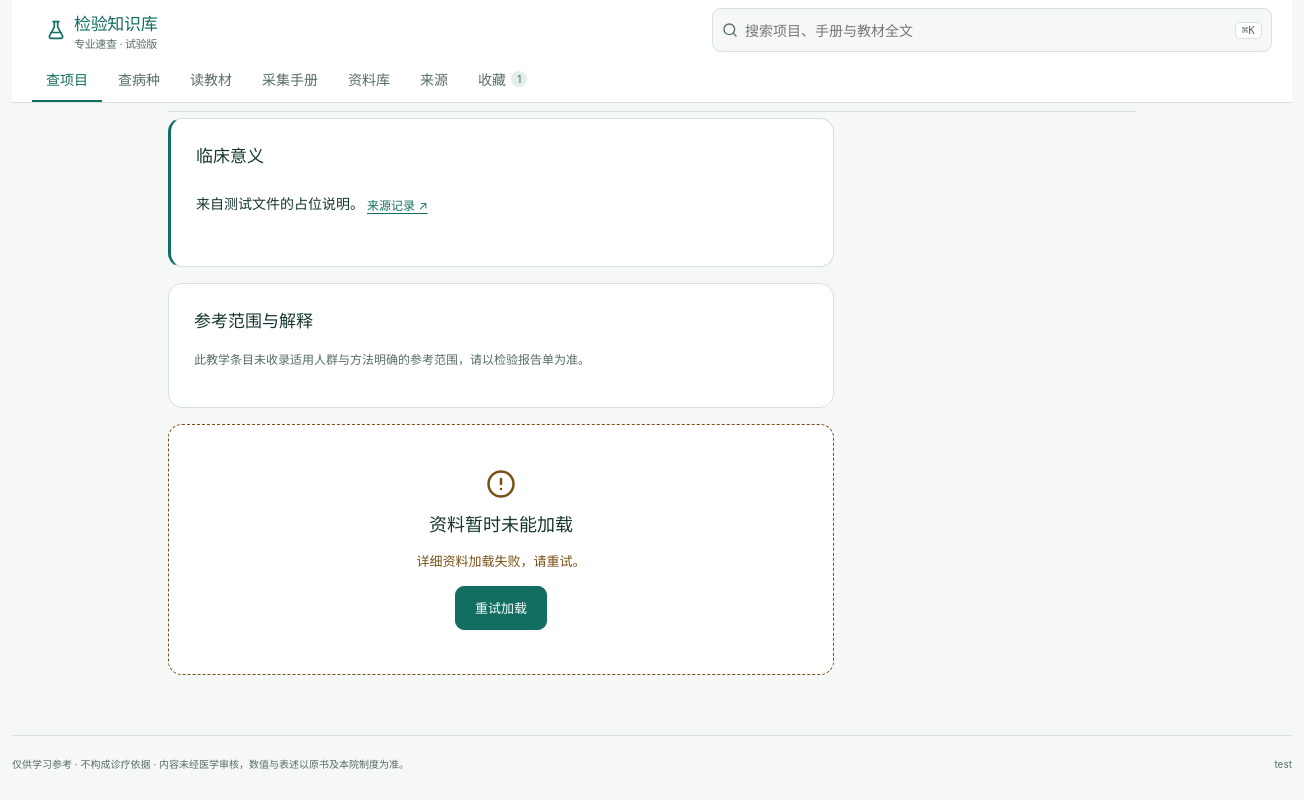
Test case: 阅读页面的实际重试按钮刷新两层缓存 › 条目详情页在目录修正后恢复阅读并保留偏好
(page scrolled)
Expected: the message "资料暂时未能加载 详细资料加载失败，请重试。 重试加载" is shown, [168,424,834,675]
Step 1. Click the button "重试加载" → coordinates (501, 608), box [455,586,547,630]
(page scrolled)
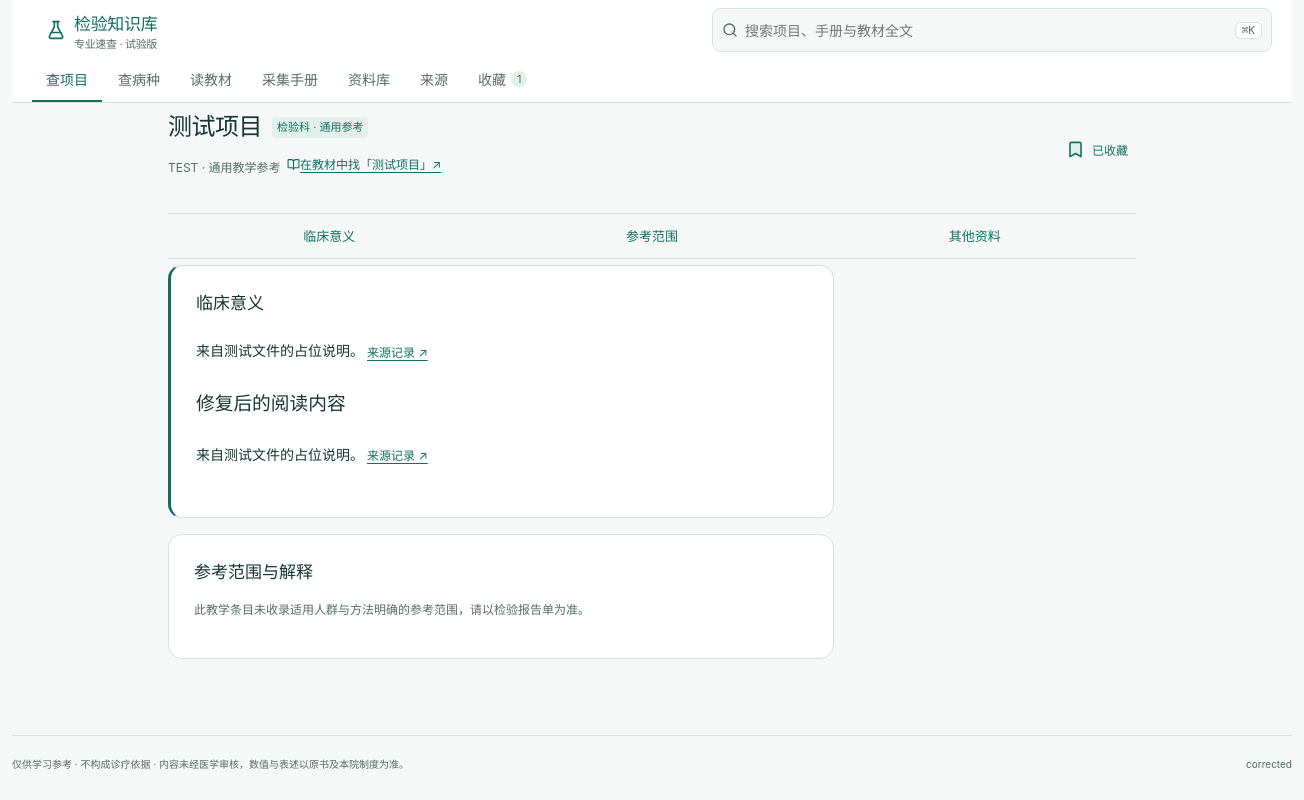
Result: the text "修复后的阅读内容" is shown at [196,392,346,415]
Result: the text "corrected" is shown at [1246,756,1292,772]
